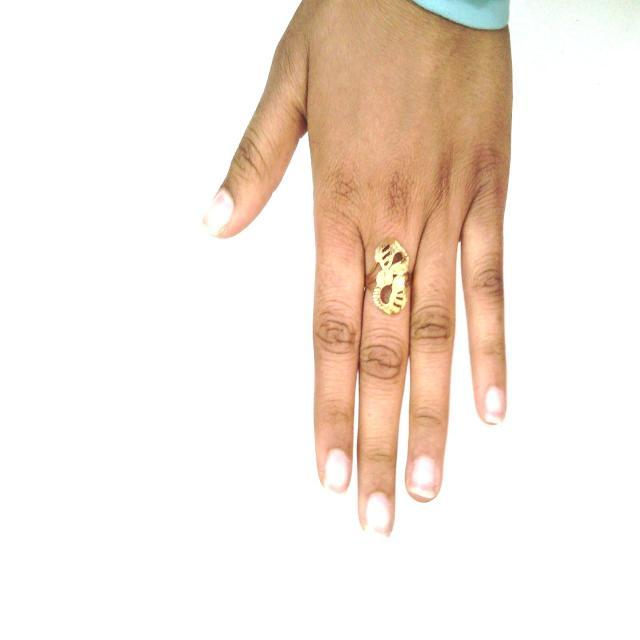Fingernail: (204, 188, 233, 233), (365, 493, 391, 535), (410, 458, 437, 496), (325, 450, 349, 492), (485, 387, 503, 423)
